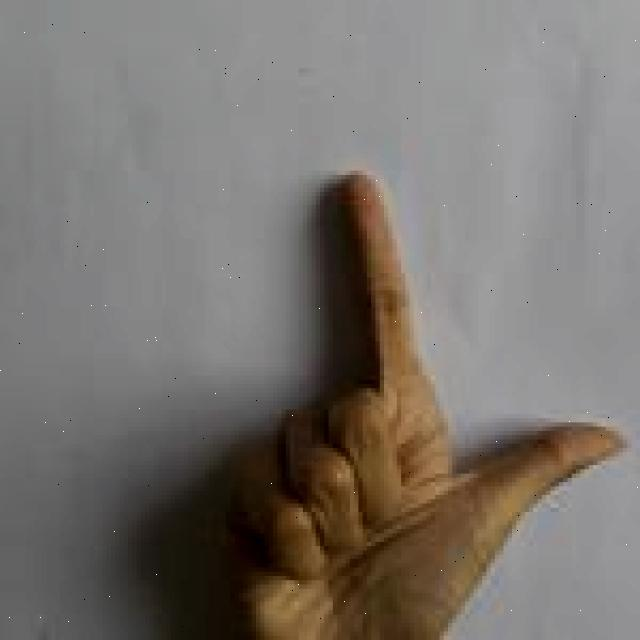L: (211, 164, 631, 640)
